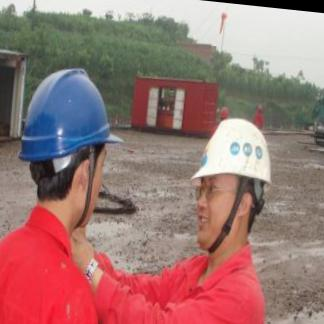helmet: (16, 66, 126, 163), (188, 117, 274, 189)
